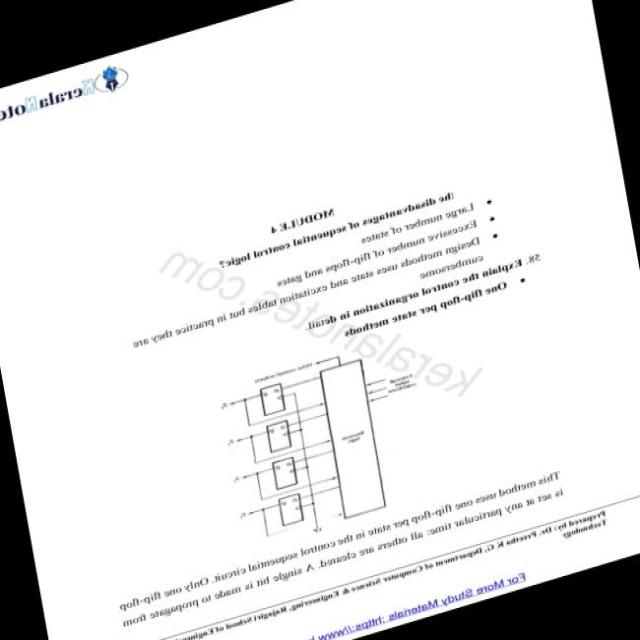Figure Detection - v3 Dataset Version2: (203, 322, 440, 561)
